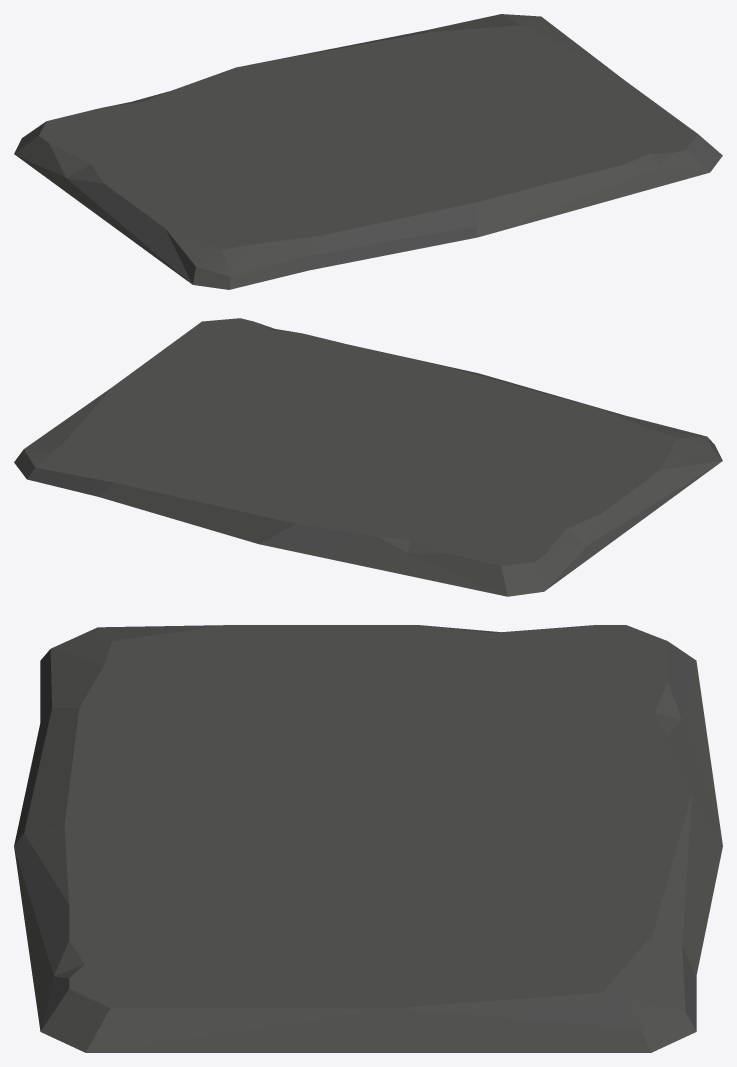
File: SM_Env_Road_Patch_01.fbx
3 renders of one model, top to bottom at view 1: azimuth 30°, elevation 25°; view 2: azimuth 150°, elevation 25°; view 3: azimuth 270°, elevation 25°, orthographic. The views are drawn at different scales.
Parts seen in each view (by area): view 1: SM_Env_Road_Patch_01; view 2: SM_Env_Road_Patch_01; view 3: SM_Env_Road_Patch_01.
Boxes of the visible parts, x1,y1,x2,y2 form: SM_Env_Road_Patch_01: (14, 14, 722, 289); SM_Env_Road_Patch_01: (14, 318, 722, 596); SM_Env_Road_Patch_01: (14, 625, 722, 1052).
Bounding box in the file's own units: 246 × 8.82 × 180.
